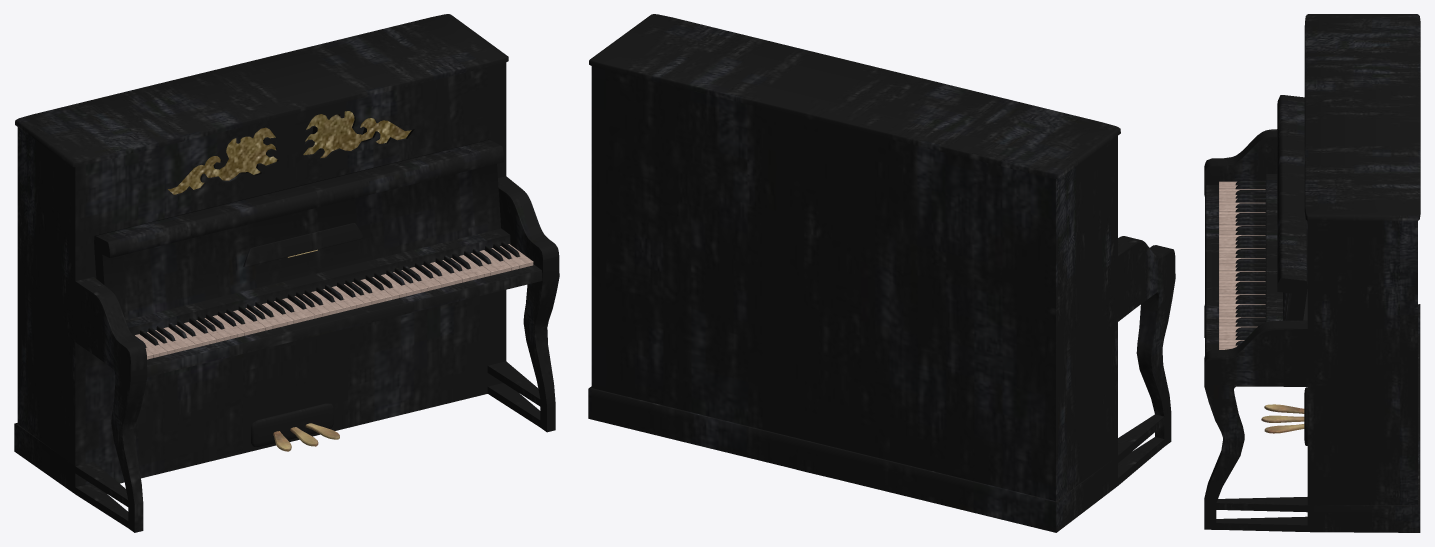
3 renders of one model, left to right at view 1: azimuth 30°, elevation 25°; view 2: azimuth 150°, elevation 25°; view 3: azimuth 270°, elevation 25°, orthographic. The views are drawn at different scales.
Bounding box in the file's own units: 2 × 1.46 × 0.9019.
4 materials, 4 textured.
